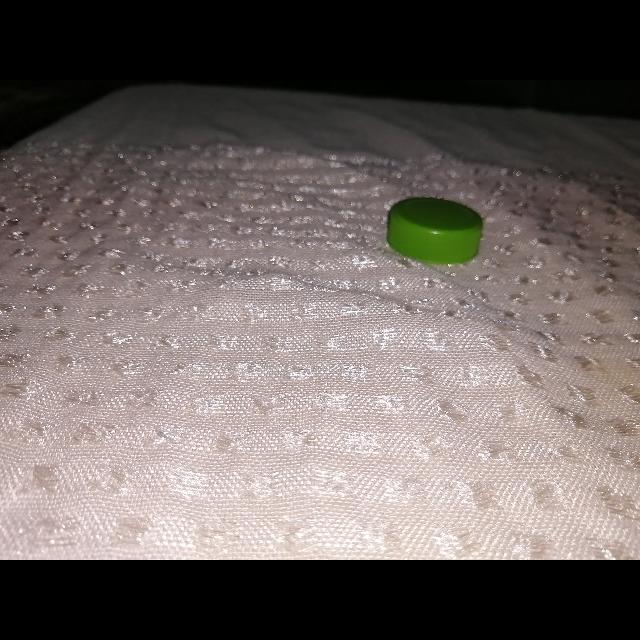plastic_bottle_cap: (388, 197, 484, 265)
